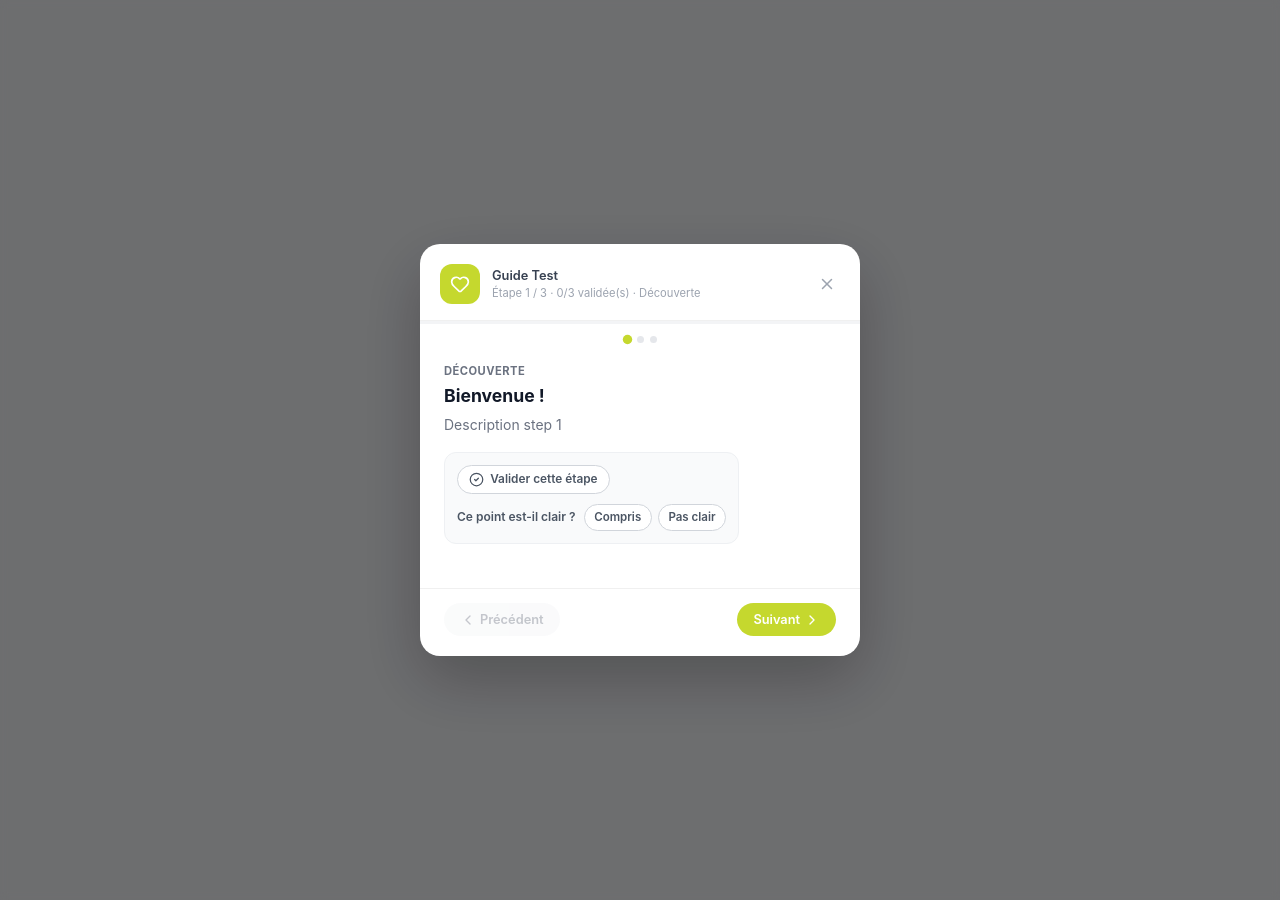
TutorialGuide.vue › navigates back when "Précédent" is clicked
Step 1. Click the button with class "tutorial-nav--next" → point(787, 620), box [737, 603, 836, 636]
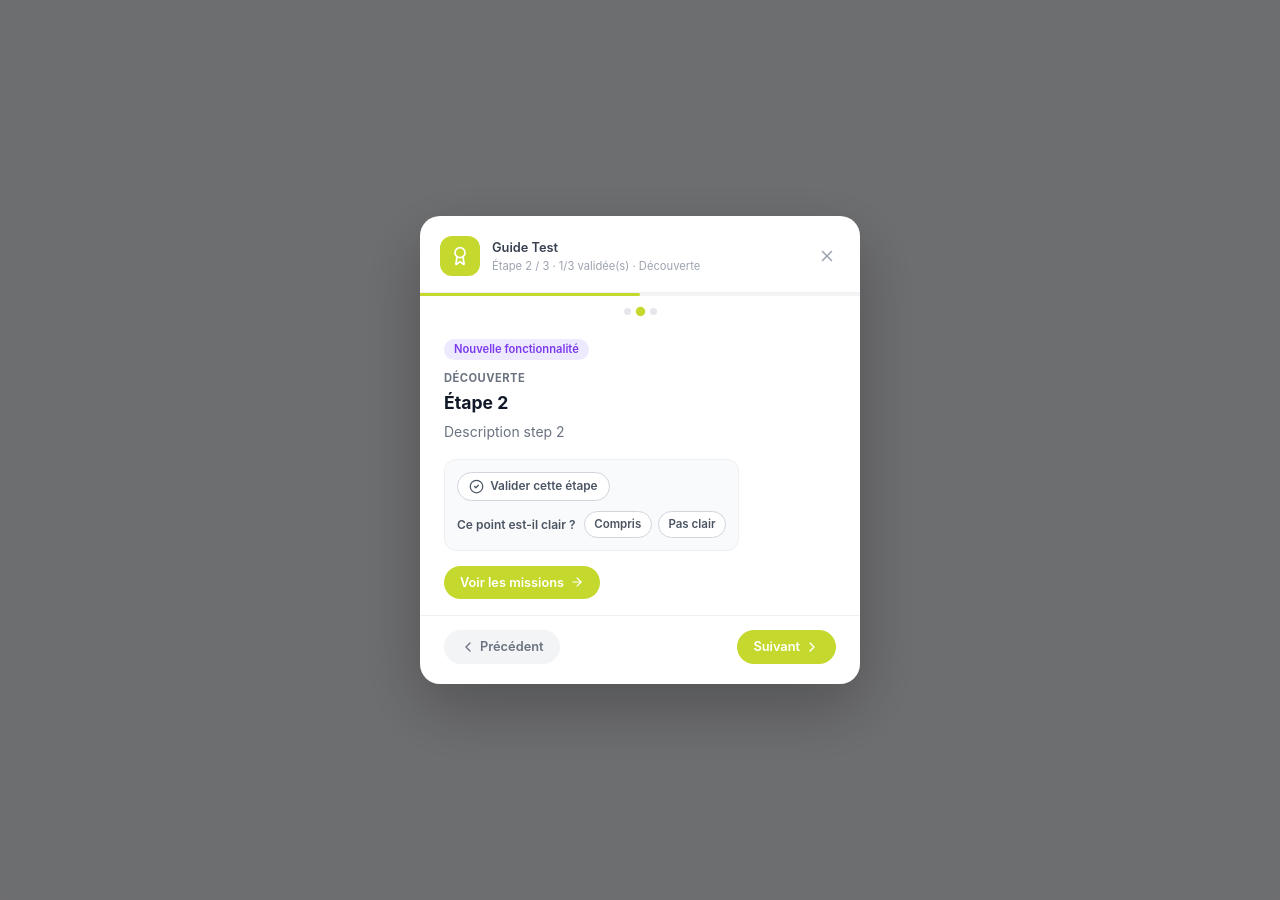
Check: the text "Étape 2" is shown, box [492, 258, 700, 272]
Step 2. Click the button with class "tutorial-nav--prev" → point(502, 647), box [444, 630, 560, 664]
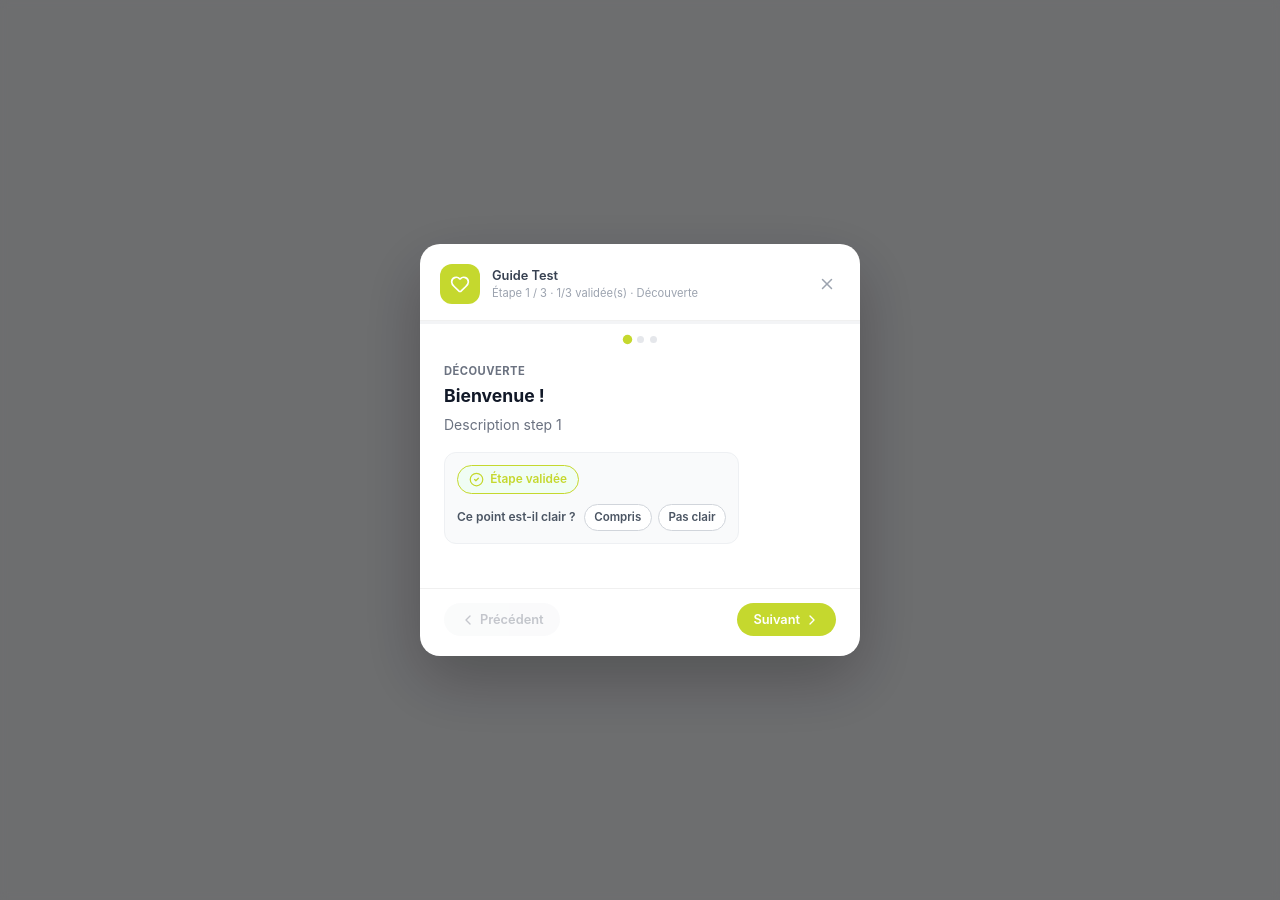
Check: the text "Bienvenue !" is shown, box [444, 385, 545, 406]
